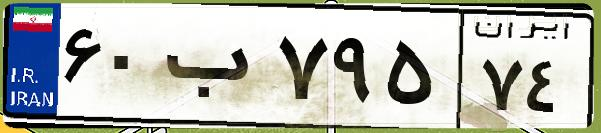0: (110, 28, 158, 98)
4: (525, 38, 570, 115)
5: (385, 28, 445, 110)
6: (57, 26, 110, 100)
7: (270, 28, 330, 110), (475, 38, 525, 113)
9: (330, 28, 385, 110)
ب: (158, 20, 270, 120)
